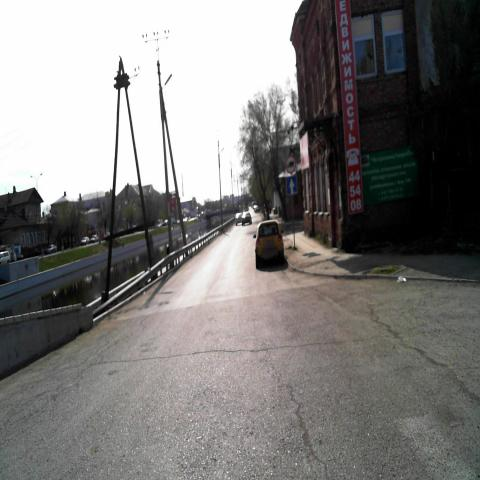3_4_1: (286, 156, 296, 174)
5_5: (286, 176, 298, 195)
